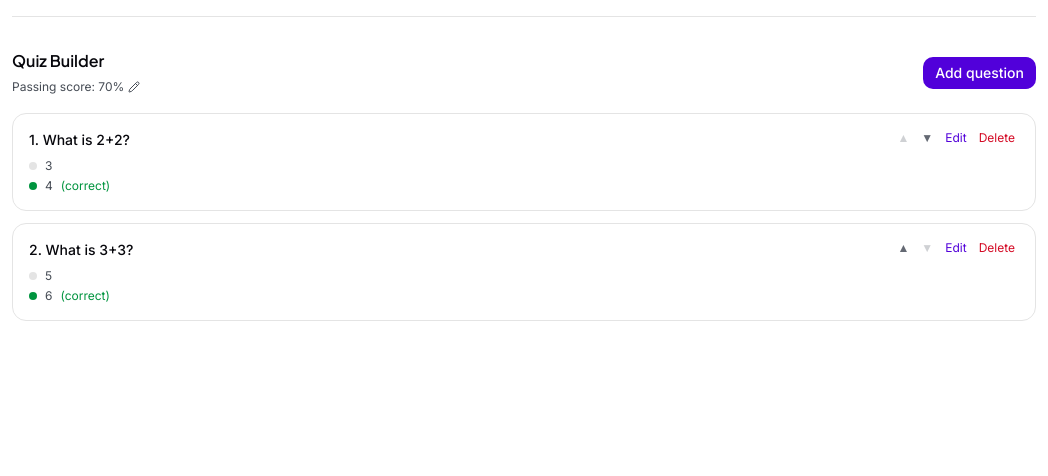
Test case: QuizBuilder › cancels inline edit without saving
The image size is (1048, 476).
Click the button with aria-label "edit question 1" at (956, 138), box [941, 130, 971, 146]
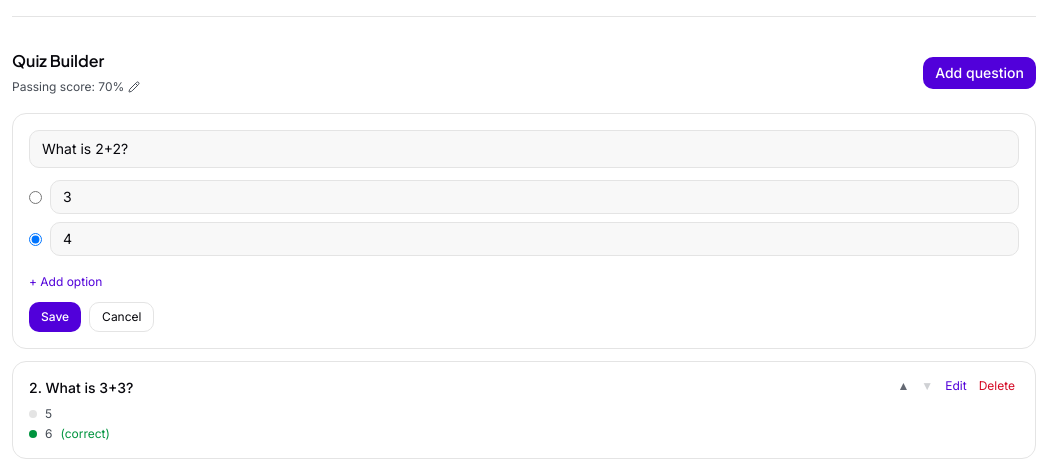
Now the field named "edit question text" is shown, box [29, 130, 1019, 168]
Click the button "Cancel" at (122, 317), box [89, 302, 154, 332]
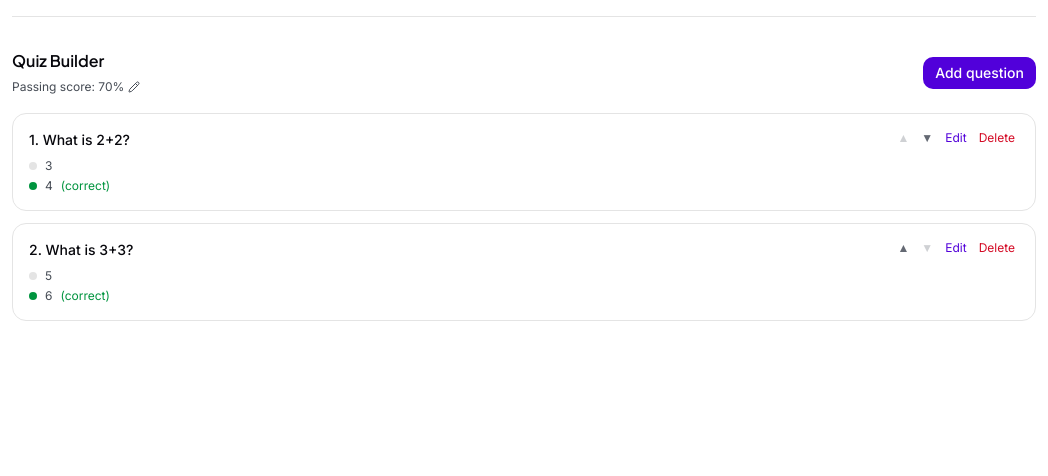
Now the field labelled "edit question text" is gone
